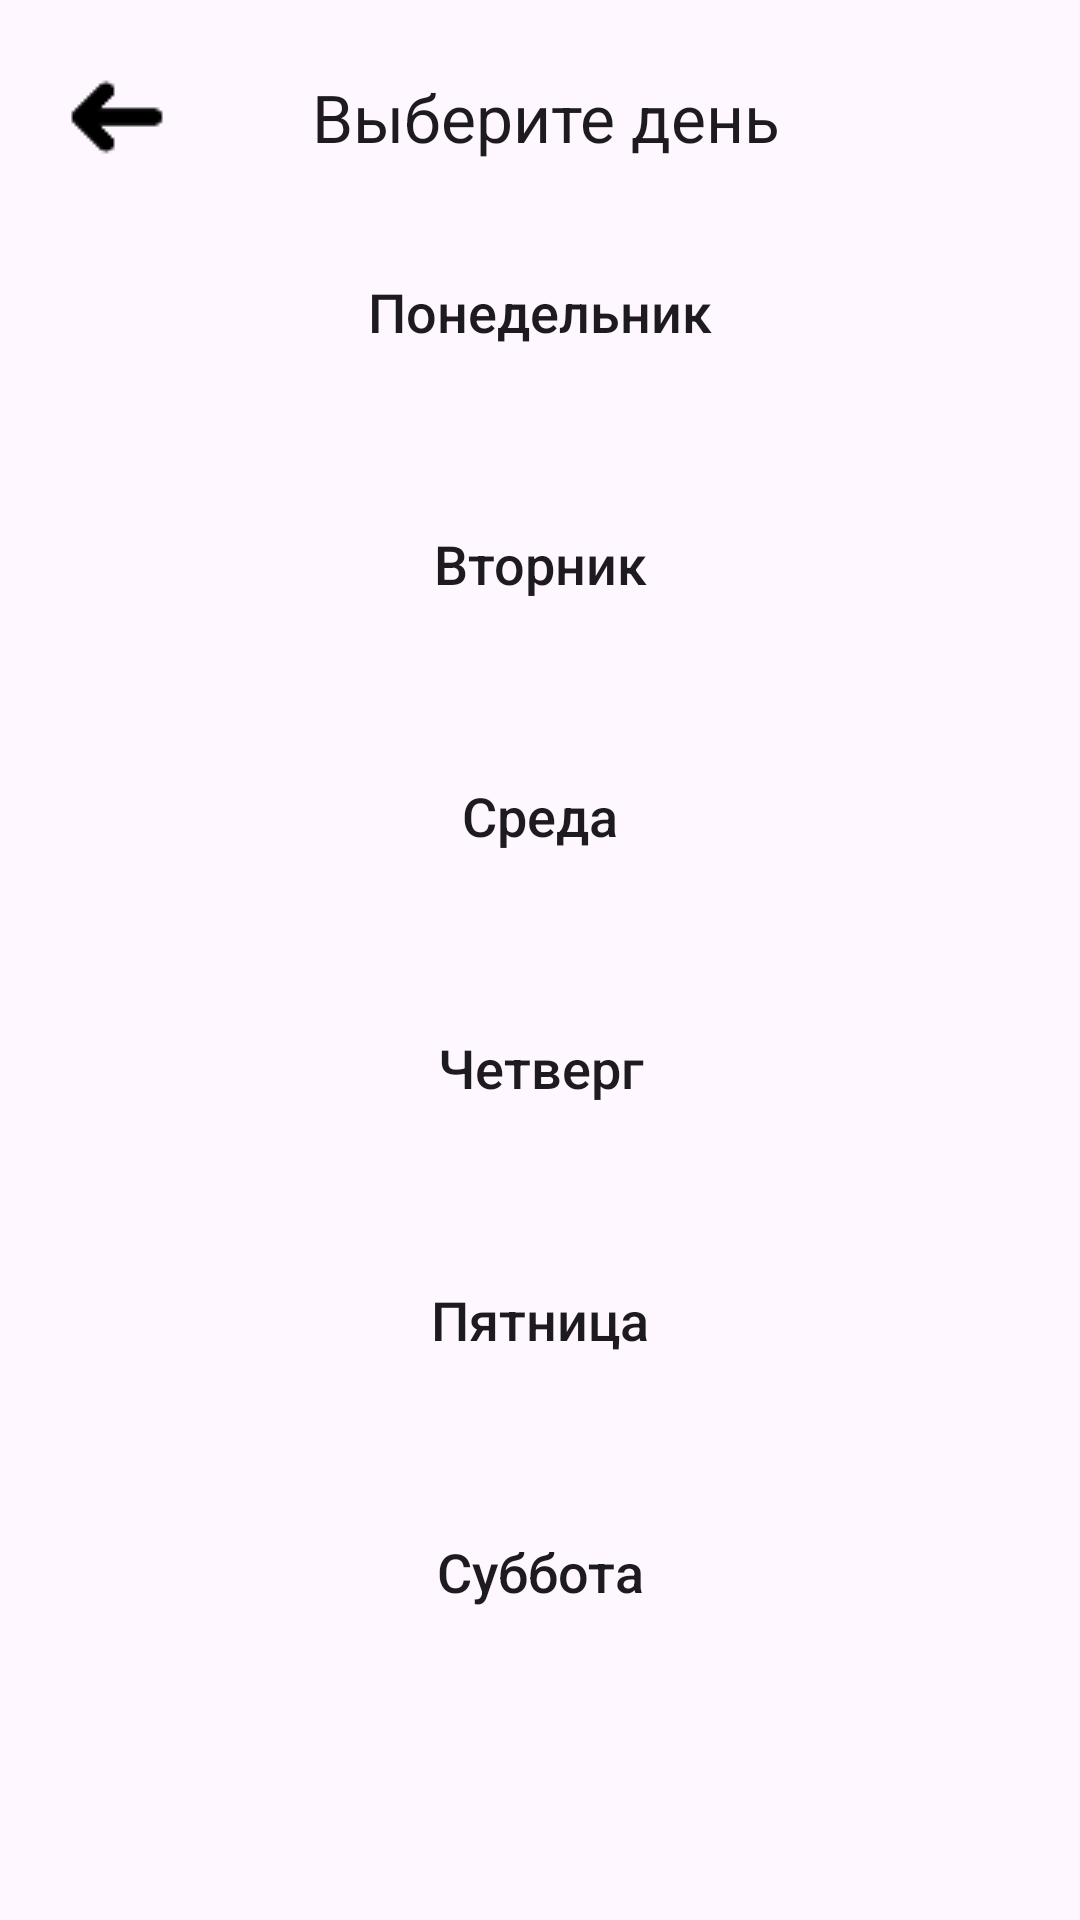

Locate icon controls on the screen. Image size 1080 x 1920, boxes as (x1=x1, y1=y1, x2=x2, y2=y2).
arrowback: (x1=71, y1=80, x2=163, y2=154)
